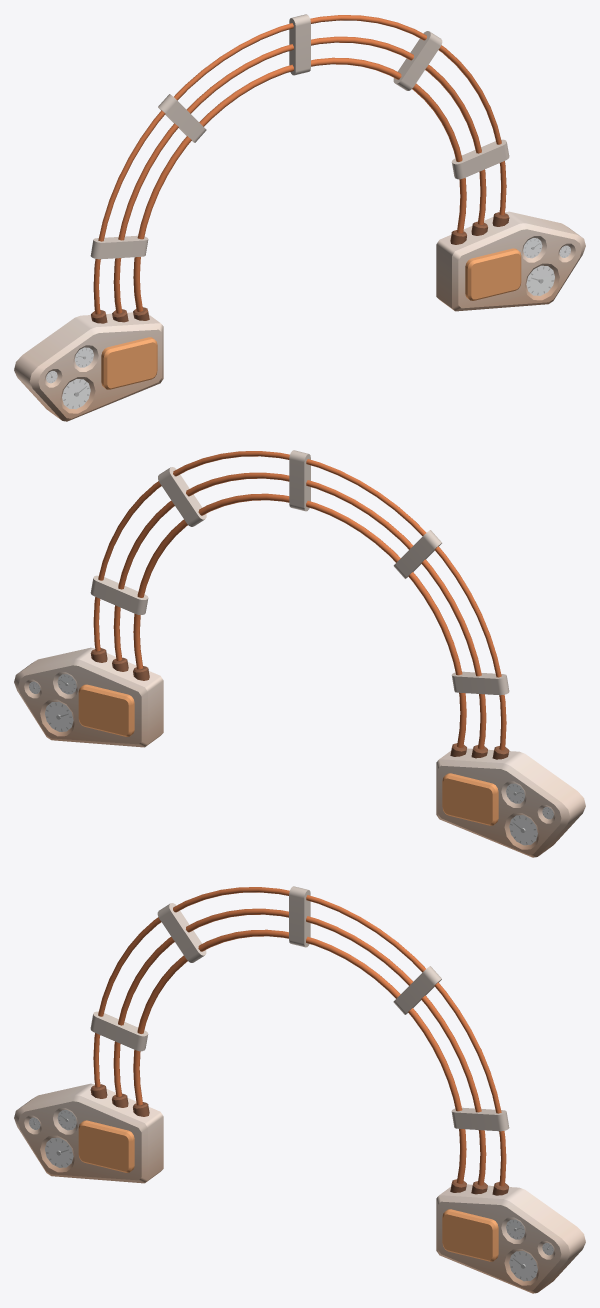
The model's file is checkpoint_001.fbx.
3 views of the same model, one above another, from view 1: azimuth 30°, elevation 25°; view 2: azimuth 150°, elevation 25°; view 3: azimuth 330°, elevation 25° (orthographic).
Visible parts, largest first — view 1: checkpoint_001; view 2: checkpoint_001; view 3: checkpoint_001.
Part boxes in pixels (left/top/right/bottom): checkpoint_001: left=14, top=14, right=585, bottom=421; checkpoint_001: left=14, top=450, right=585, bottom=857; checkpoint_001: left=14, top=886, right=585, bottom=1293.
Size of the model in its own units: 1712 by 148 by 1002.
